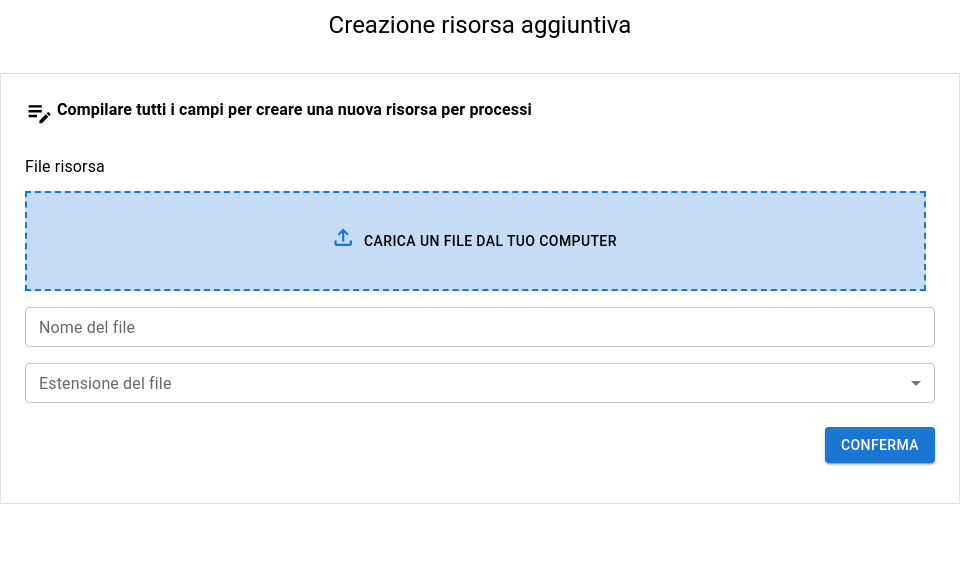
Scenario: CreateWR Test › should display validation errors when form is incomplete
This screenshot has width=977, height=569.
Click the button "Conferma" at (880, 445), box [825,427,935,463]
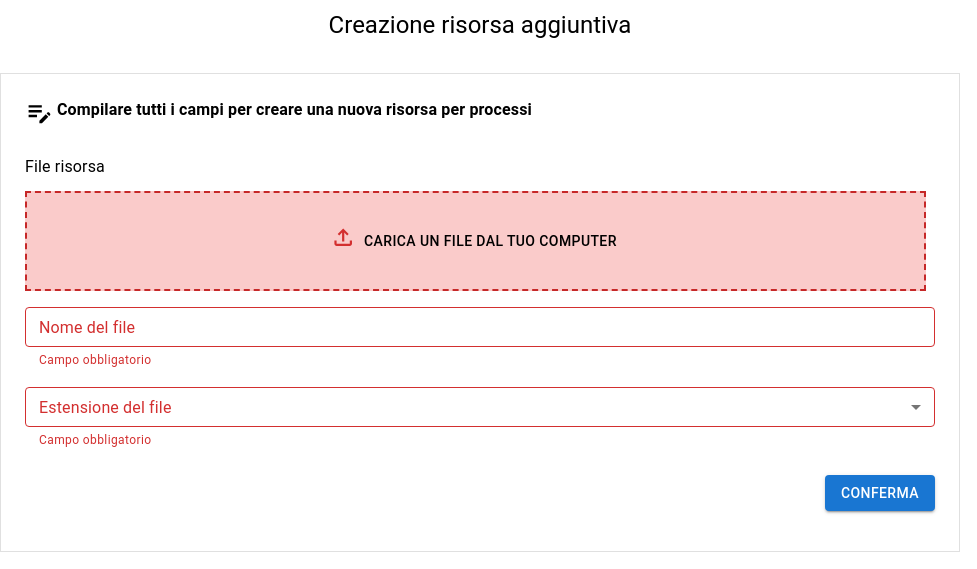
Expected: the text "Campo obbligatorio" is shown 2 times, [39,353,152,367]; [39,433,152,447]
Expected: the text "Campo obbligatorio" below "Nome del file" is shown, [39,353,152,367]
Expected: the text "Campo obbligatorio" below "Estensione del file" is shown, [39,433,152,447]
